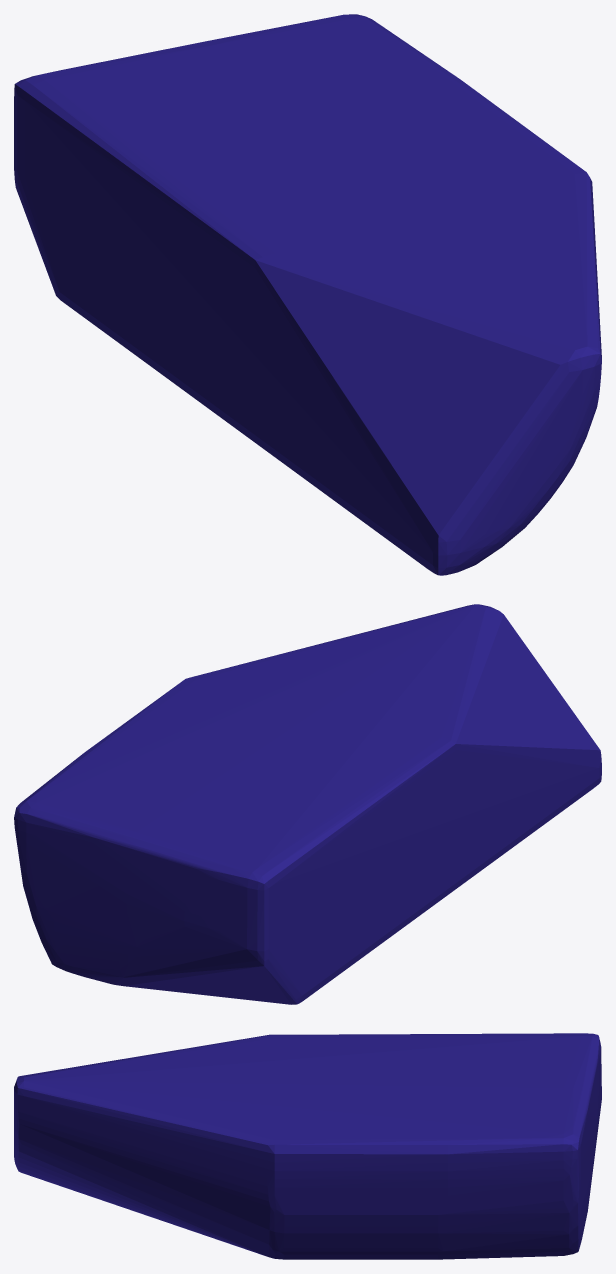
The model's file is right-hip-pitch-0_part_18.obj.
3 views of the same model, one above another, from view 1: azimuth 30°, elevation 25°; view 2: azimuth 150°, elevation 25°; view 3: azimuth 270°, elevation 25° (orthographic). The views are drawn at different scales.
Bounding box in the file's own units: 0.066 × 0.0363 × 0.1433.
